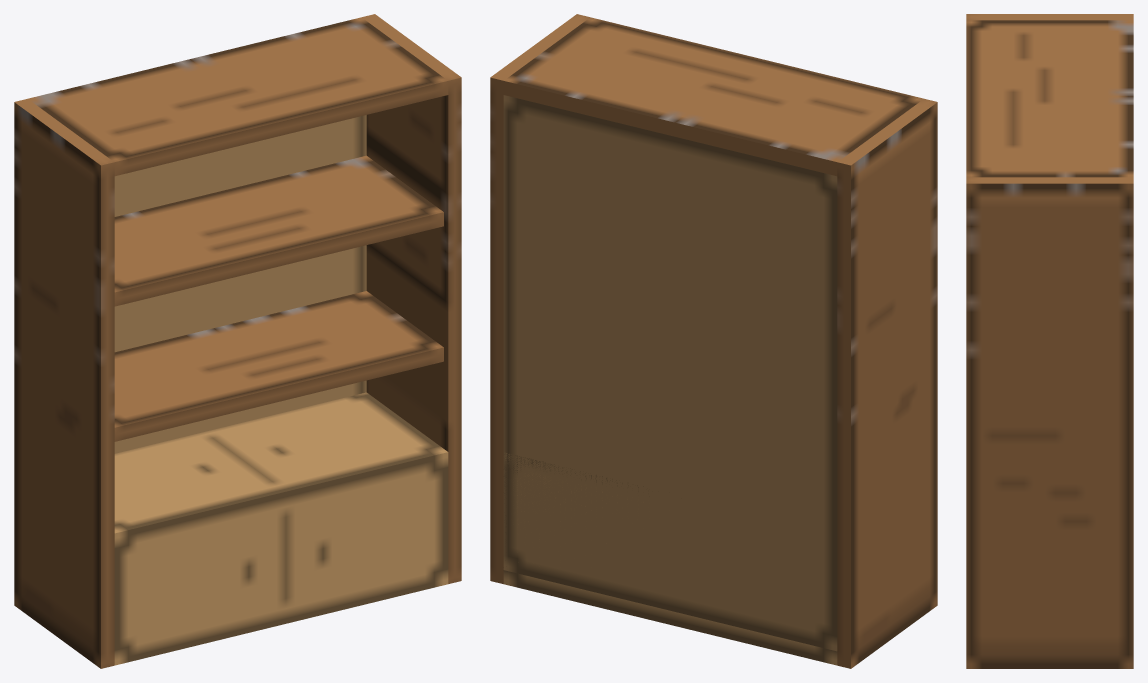
Rendered from Bookshelf.obj.
3 renders of one model, left to right at view 1: azimuth 30°, elevation 25°; view 2: azimuth 150°, elevation 25°; view 3: azimuth 270°, elevation 25°, orthographic. The views are drawn at different scales.
Parts seen in each view (by area): view 1: Bookshelf; view 2: Bookshelf; view 3: Bookshelf.
Boxes of the visible parts, x1,y1,x2,y2 form: Bookshelf: [14, 14, 461, 668]; Bookshelf: [490, 14, 937, 668]; Bookshelf: [966, 14, 1133, 668].
Size of the model in its own units: 1.2 by 1.6 by 0.5.
1 material, 1 textured.
